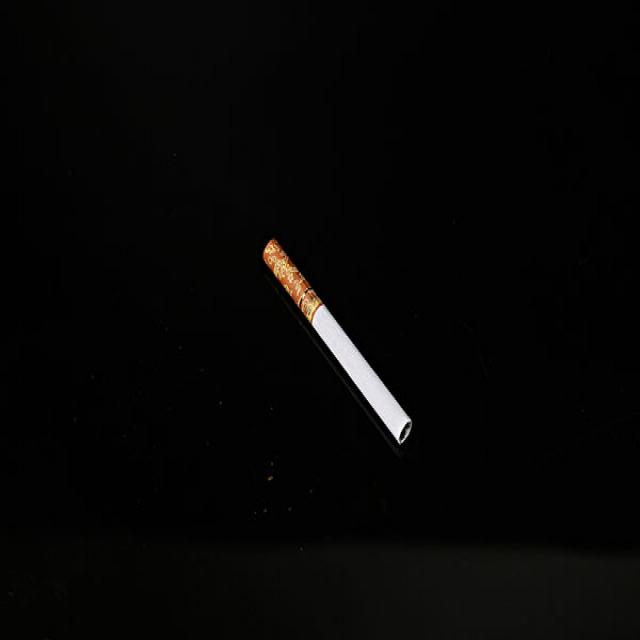smoking: (262, 233, 411, 445)
